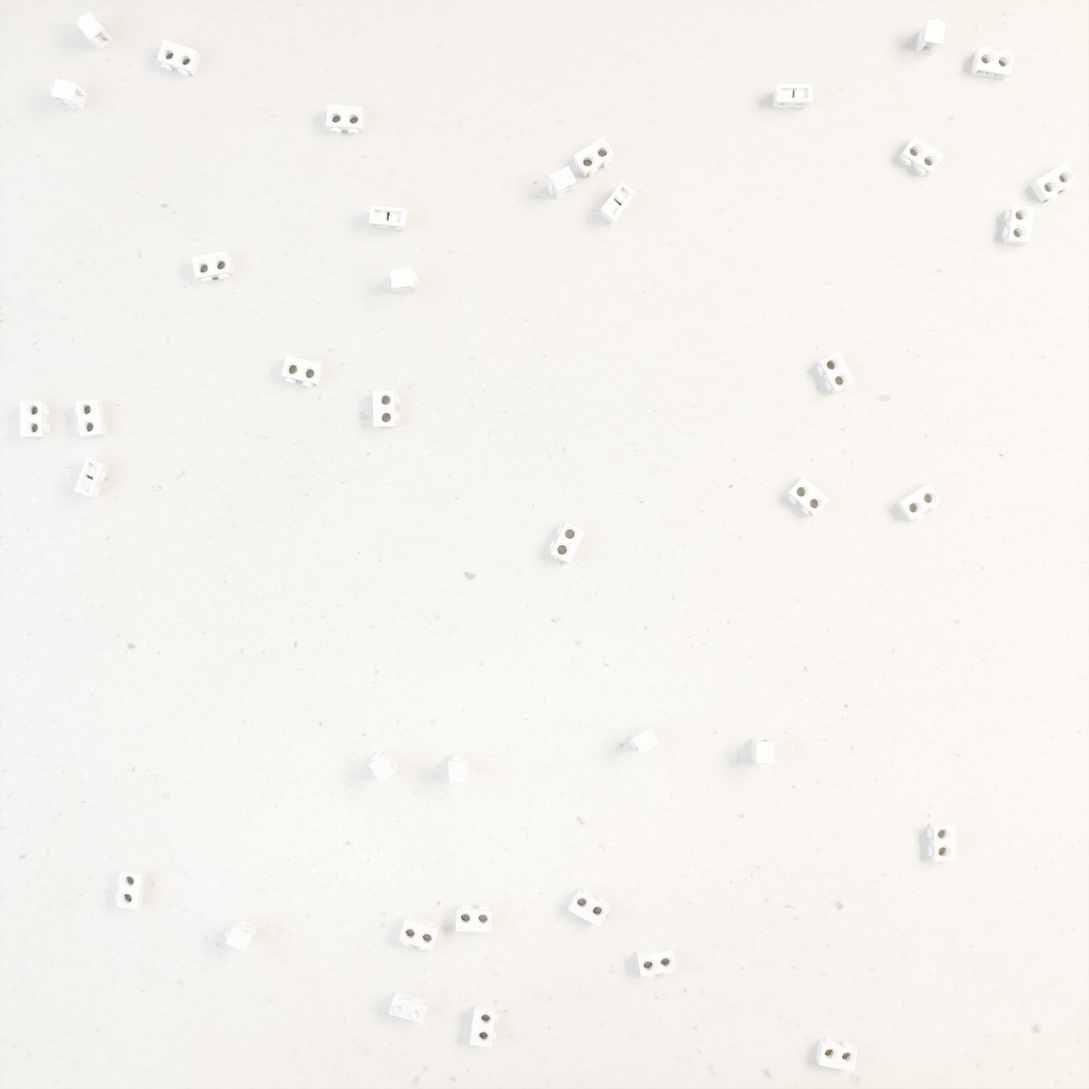lego: (1030, 162, 1077, 203), (899, 135, 944, 177), (573, 136, 615, 178), (787, 477, 830, 517), (896, 483, 941, 521), (817, 351, 855, 394), (157, 39, 201, 76), (568, 888, 609, 927), (600, 181, 636, 225), (549, 522, 585, 563), (76, 12, 113, 51), (399, 916, 440, 951), (816, 1038, 858, 1072), (971, 47, 1014, 80), (74, 458, 109, 498), (281, 355, 323, 388), (192, 251, 234, 283), (389, 991, 429, 1024), (636, 945, 676, 978), (1002, 205, 1034, 246), (115, 868, 146, 910), (74, 399, 106, 438), (470, 1004, 499, 1047), (51, 78, 87, 111), (326, 105, 365, 135), (927, 822, 956, 862), (225, 919, 259, 952), (20, 401, 50, 438), (916, 18, 946, 55), (456, 903, 492, 933), (368, 750, 399, 783), (369, 205, 408, 231), (373, 391, 400, 428), (547, 166, 576, 199), (629, 724, 660, 754), (774, 84, 812, 108), (390, 268, 419, 294), (751, 738, 774, 767), (448, 753, 469, 783)
